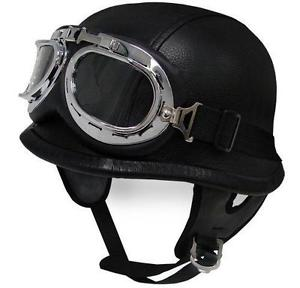with_helmet: (15, 1, 290, 286)
